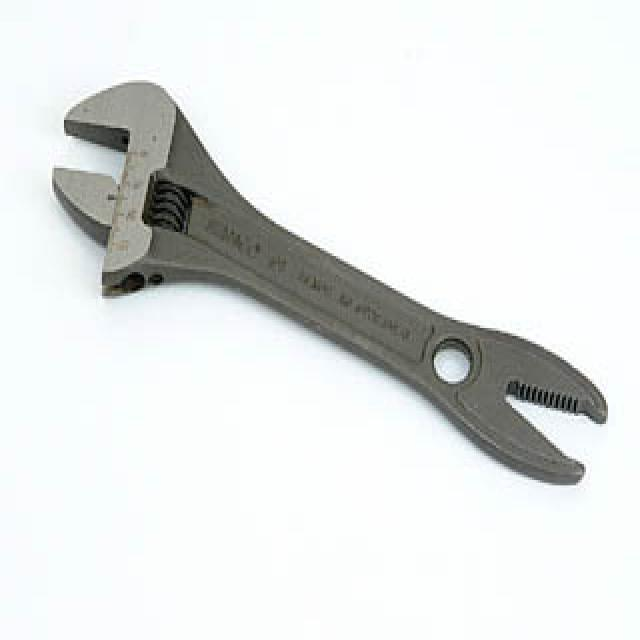wrench: (47, 74, 613, 498)
